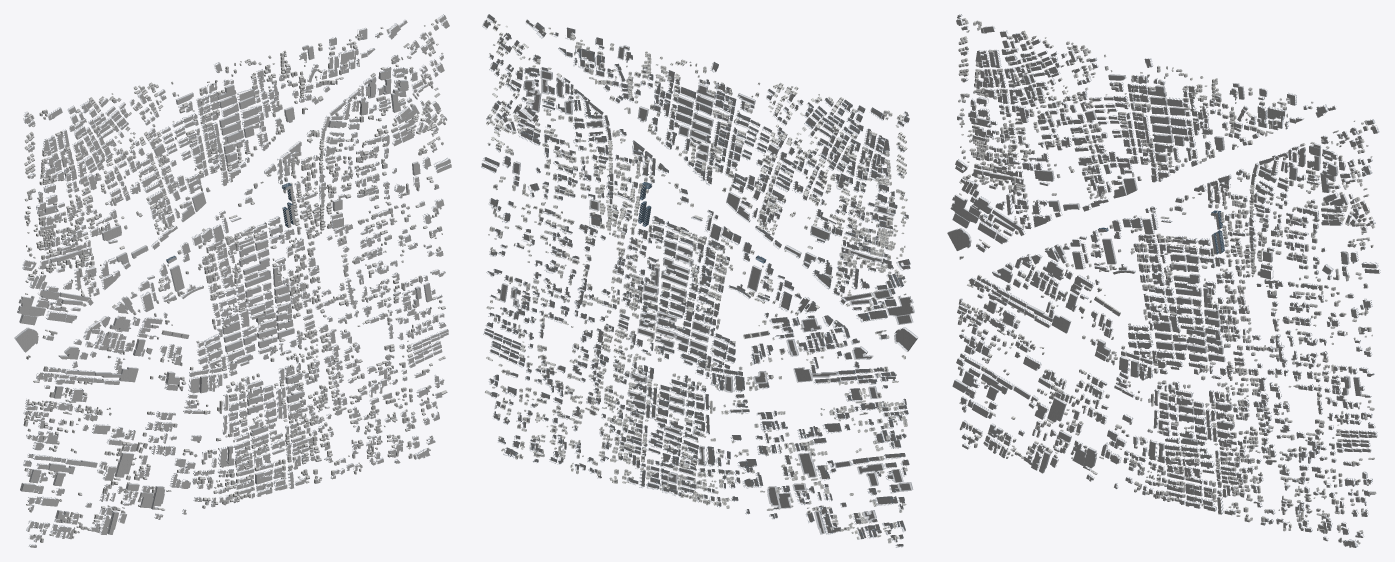
Rendered from buildings_0_3.obj.
3 views of the same model, side by side, from view 1: azimuth 30°, elevation 25°; view 2: azimuth 150°, elevation 25°; view 3: azimuth 330°, elevation 25° (orthographic).
Size of the model in its own units: 2085 by 2033 by 32.14.
Materials: 6 (6 with a texture image).
